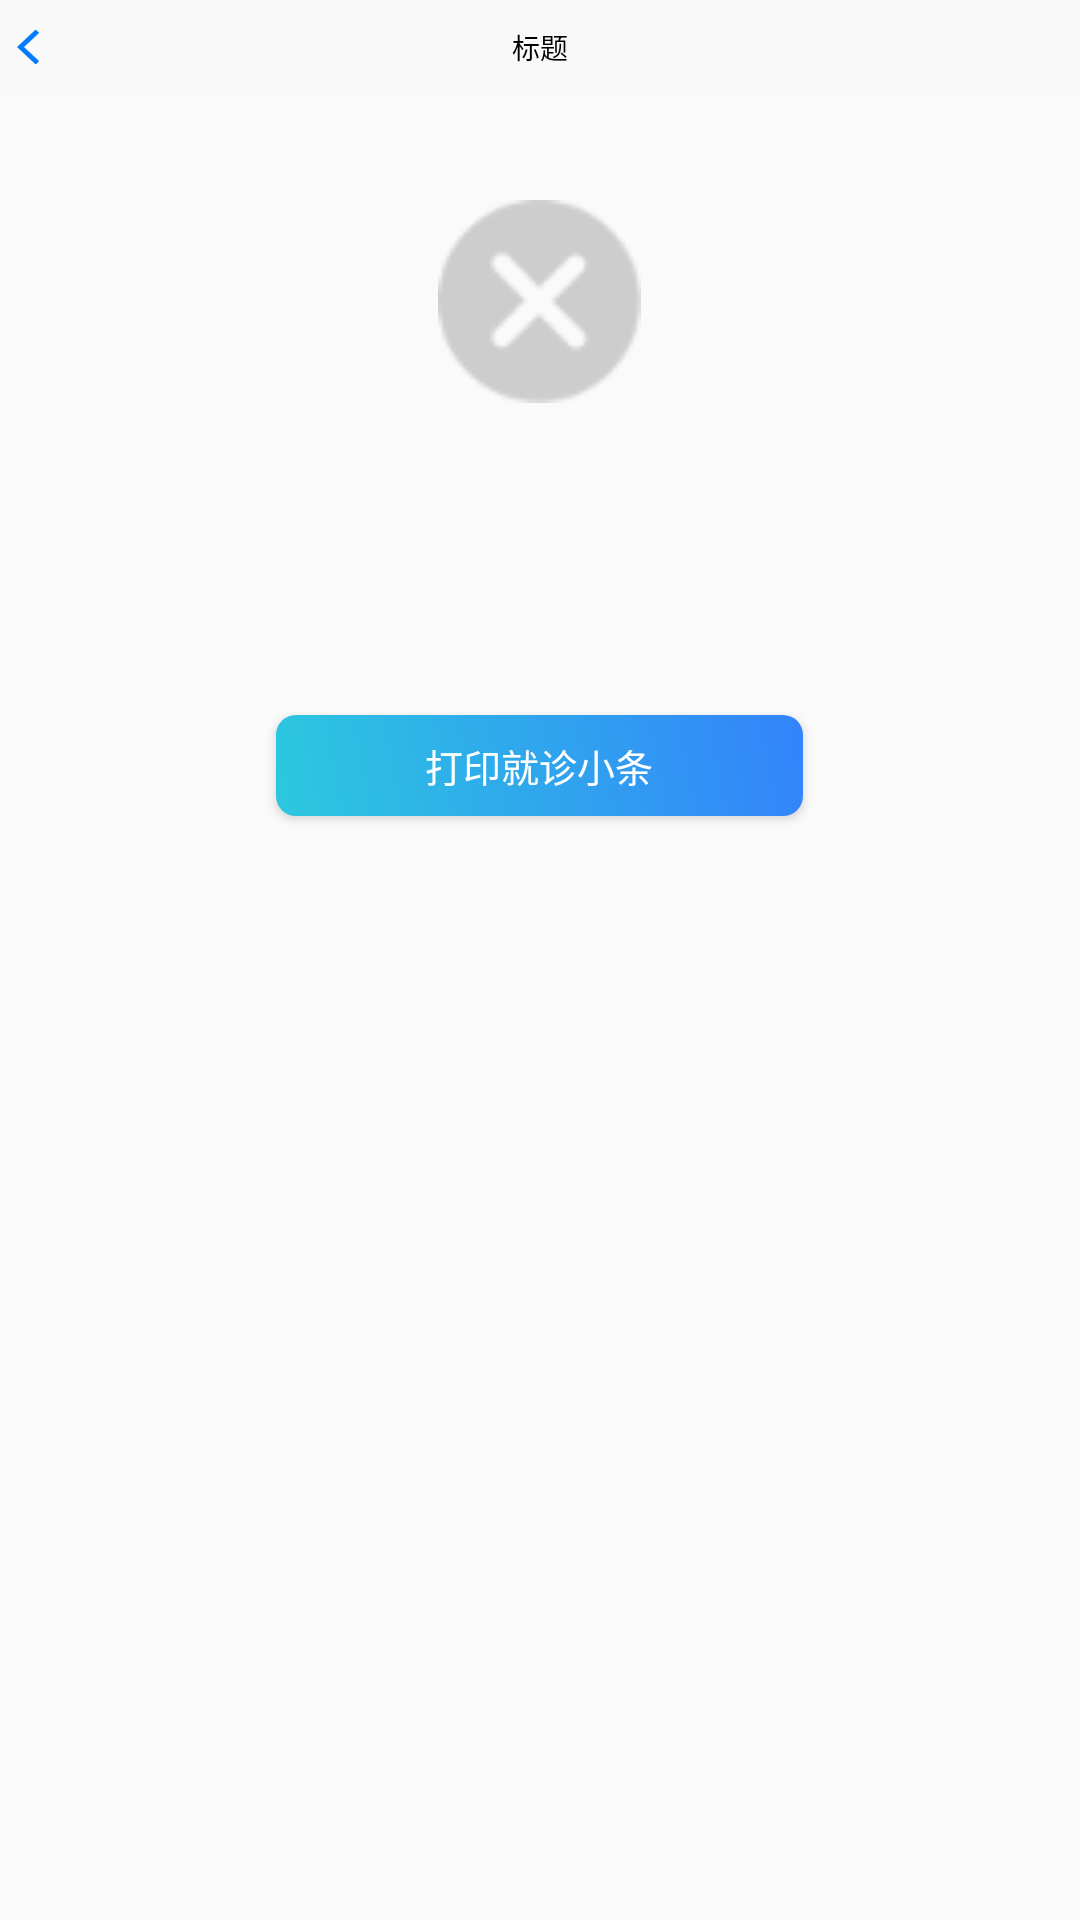

Icons on this 1080px x 1920px Android screen, each with its box as [x1=x1, y1=y1, x2=x2, y2=y2]:
delete iv: [x1=438, y1=200, x2=641, y2=403]
